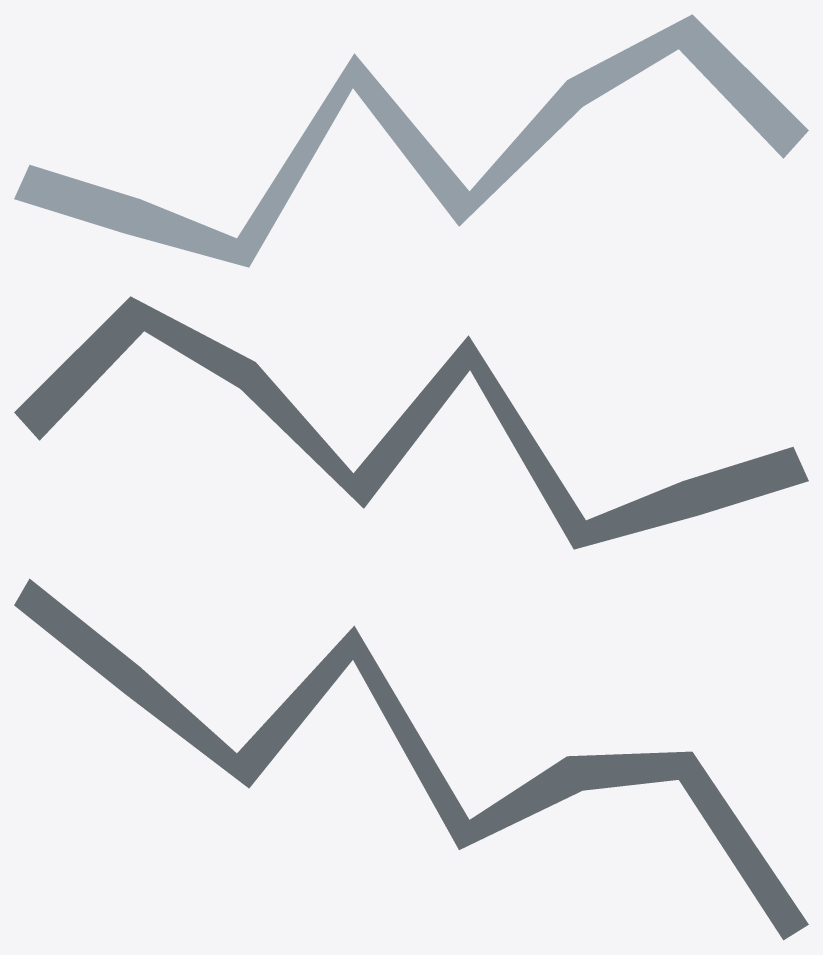
The model's file is 2045_PotionThrow_Overall_GroundArc51.fbx.
3 renders of one model, top to bottom at view 1: azimuth 30°, elevation 25°; view 2: azimuth 150°, elevation 25°; view 3: azimuth 330°, elevation 25°, orthographic.
Parts seen in each view (by area): view 1: PART_GroundArc51; view 2: PART_GroundArc51; view 3: PART_GroundArc51.
Part boxes in pixels (<box>): PART_GroundArc51: <box>14,14,808,267</box>; PART_GroundArc51: <box>14,296,808,549</box>; PART_GroundArc51: <box>14,578,808,940</box>.
Bounding box in the file's own units: 71.86 × 18.17 × 2.96e-06.
